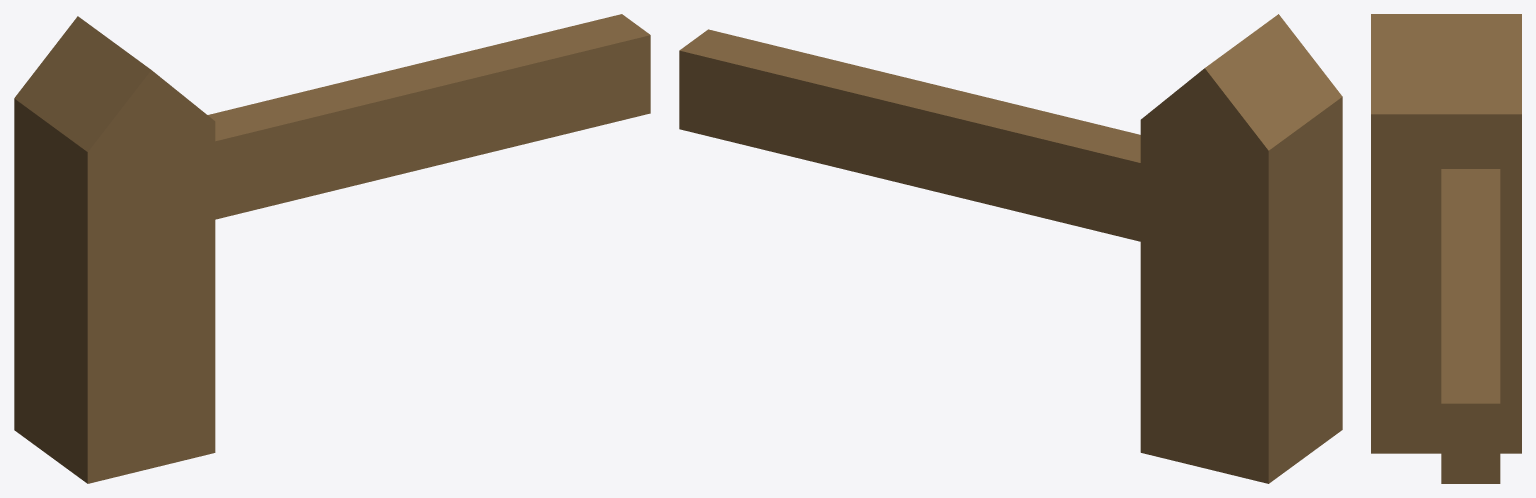
File: Vallas.fbx
3 views of the same model, side by side, from view 1: azimuth 30°, elevation 25°; view 2: azimuth 150°, elevation 25°; view 3: azimuth 270°, elevation 25° (orthographic). The views are drawn at different scales.
Parts seen in each view (by area): view 1: Cube, Cube.001; view 2: Cube, Cube.001; view 3: Cube, Cube.001.
Boxes of the visible parts, <box> form: Cube: <box>14,16,215,483</box>; Cube.001: <box>208,14,650,219</box>; Cube: <box>1140,14,1342,483</box>; Cube.001: <box>679,29,1140,241</box>; Cube: <box>1371,14,1521,453</box>; Cube.001: <box>1441,169,1500,483</box>.
Bounding box in the file's own units: 2.39 × 1.53 × 0.511.
